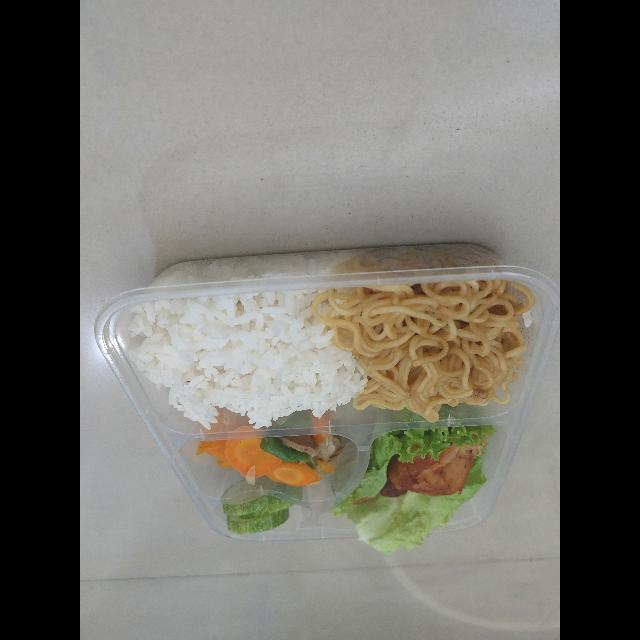bento: (89, 218, 560, 563)
